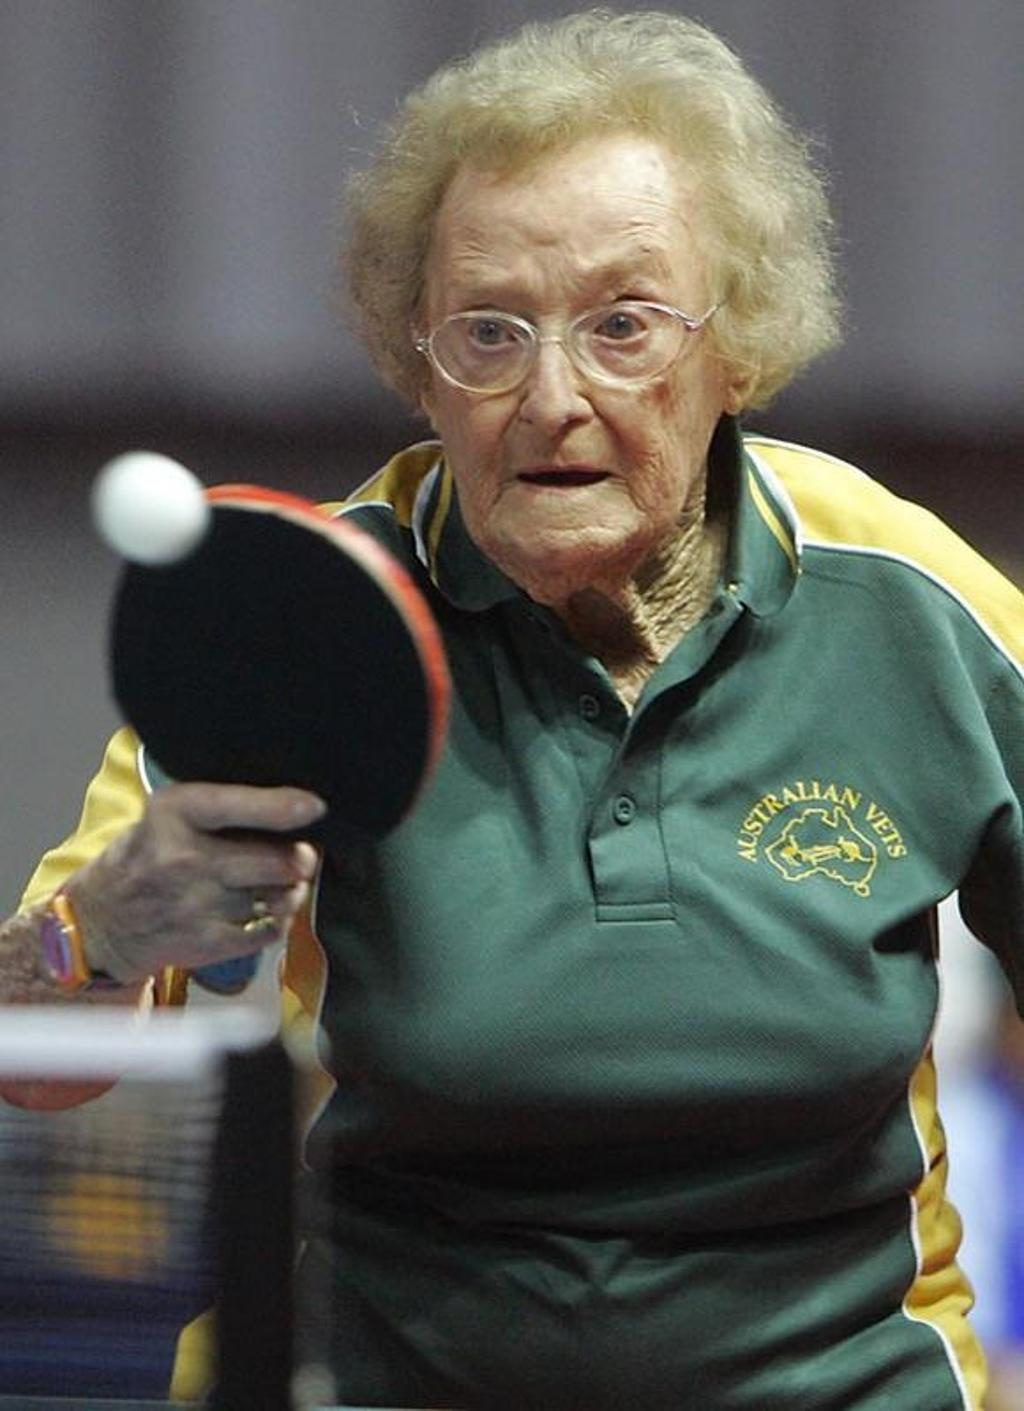face: (432, 146, 713, 570)
